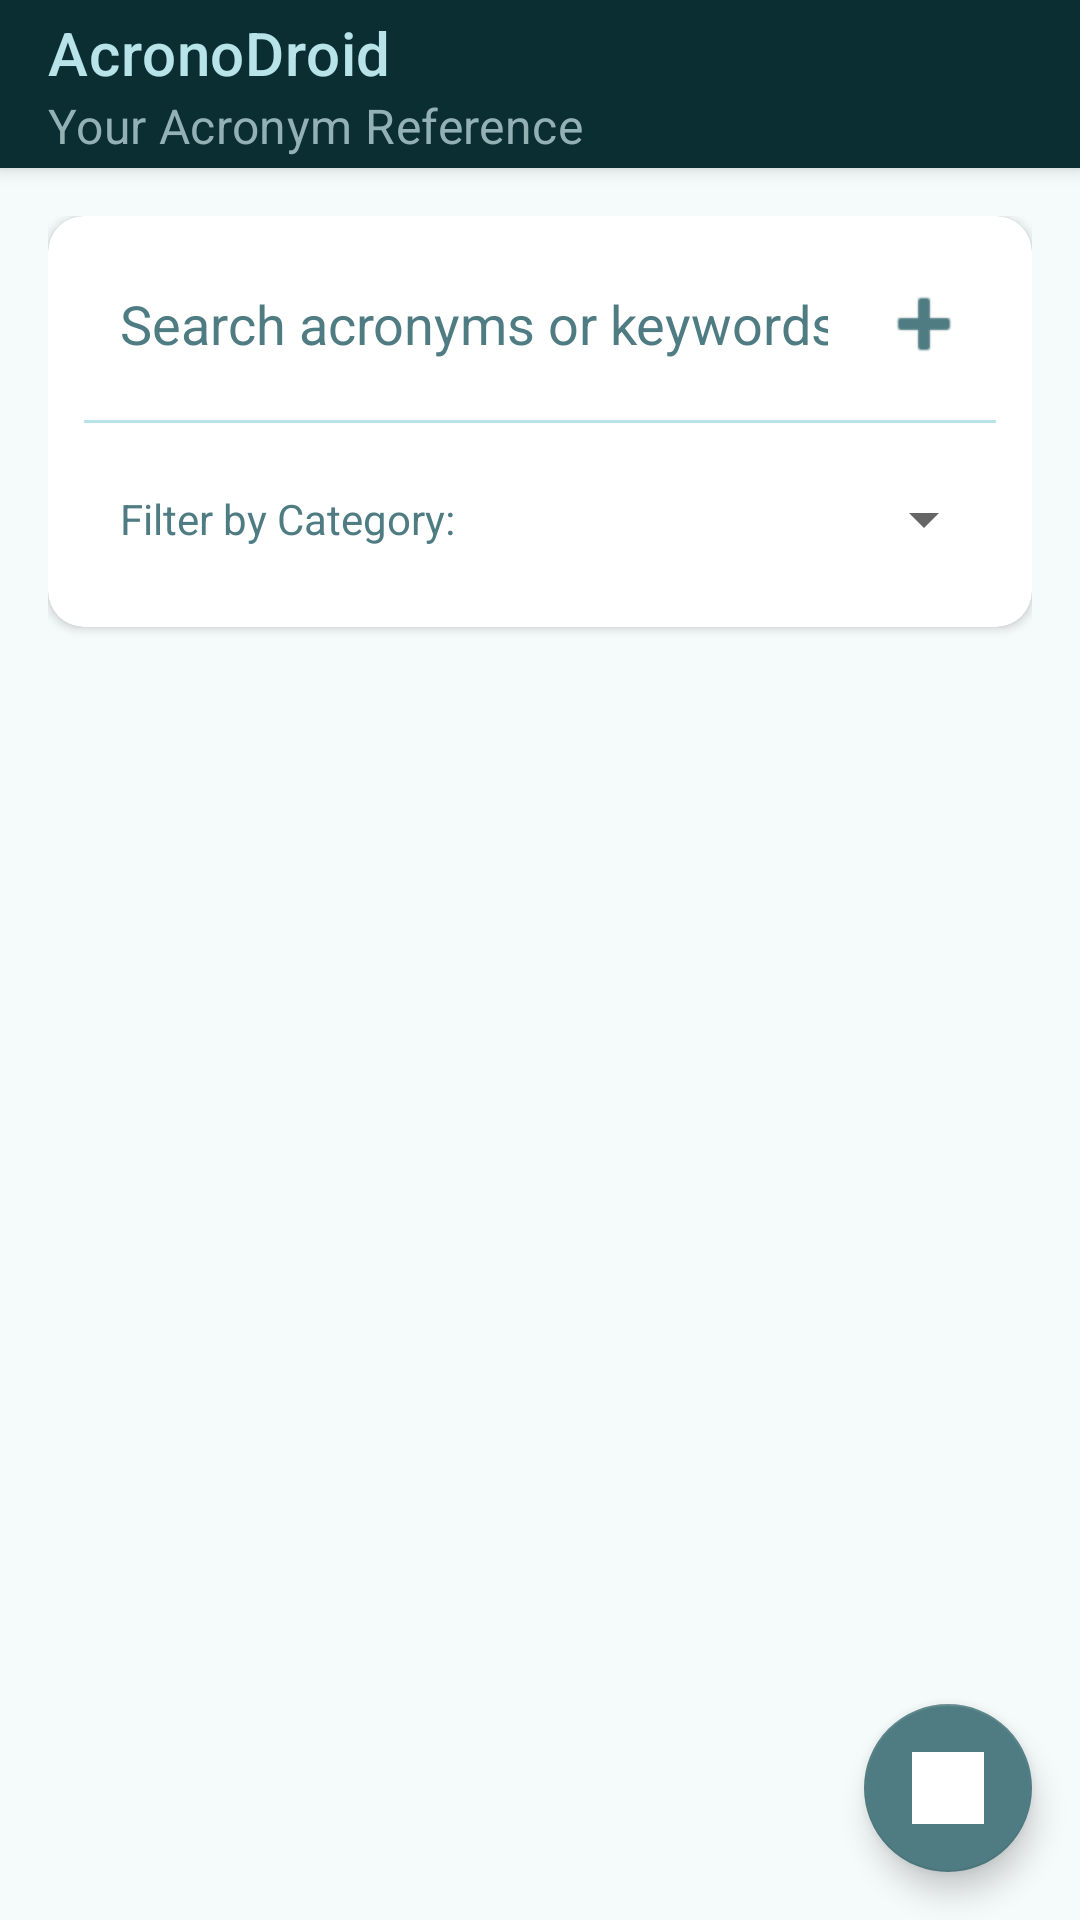

Point at icon controls on the screen. Image size 1080×1920, points as (x,y).
Add: (924,324)
